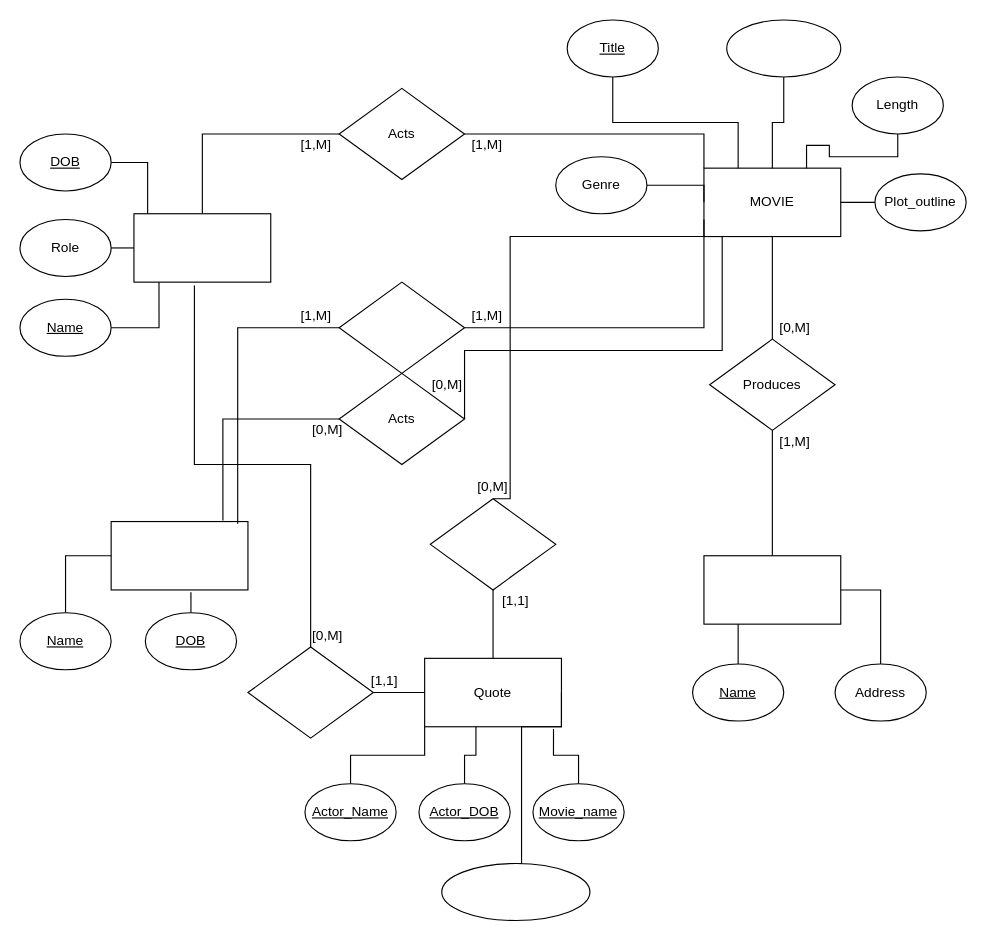
The diagram is 986 pixels wide and 941 high, and some of its shapes have lost their labels. Here are the shapes that lost their labels. From the top down, the box of each, then its label:
(726, 19, 841, 77): Year_of_Release
(133, 213, 271, 282): Actor
(338, 281, 465, 373): Directs
(110, 520, 248, 590): Director
(429, 498, 556, 590): Quotable_lines
(703, 555, 841, 624): Production_Company
(247, 646, 373, 738): Speaks
(441, 862, 590, 921): Movie Year_of_release
